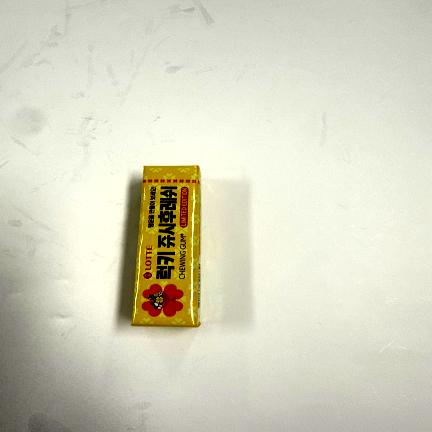gum_yellow: (132, 166, 201, 326)
